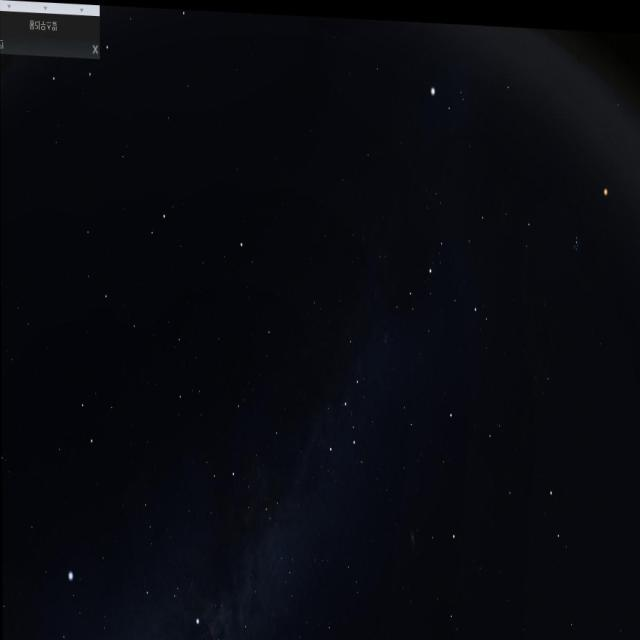cassiopeia: (321, 306, 374, 476)
pleiades: (569, 226, 581, 250)
